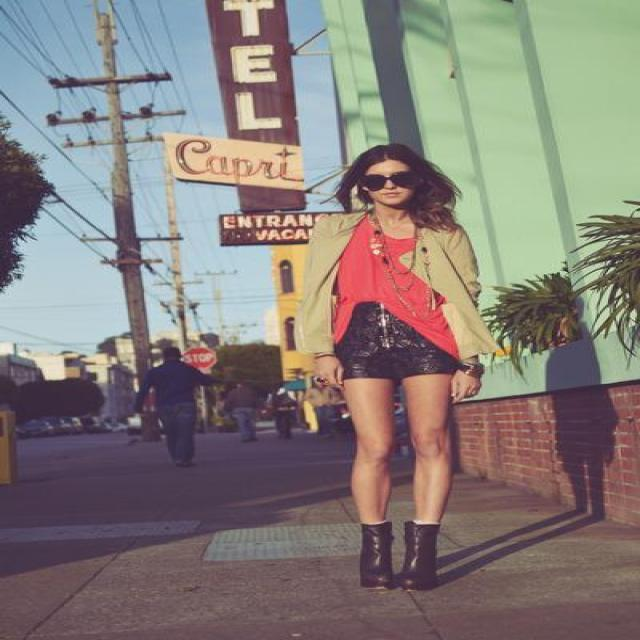jacket: (288, 212, 496, 351)
shirt: (330, 218, 458, 357)
shoe: (357, 521, 440, 590)
shorts: (326, 302, 464, 396)
